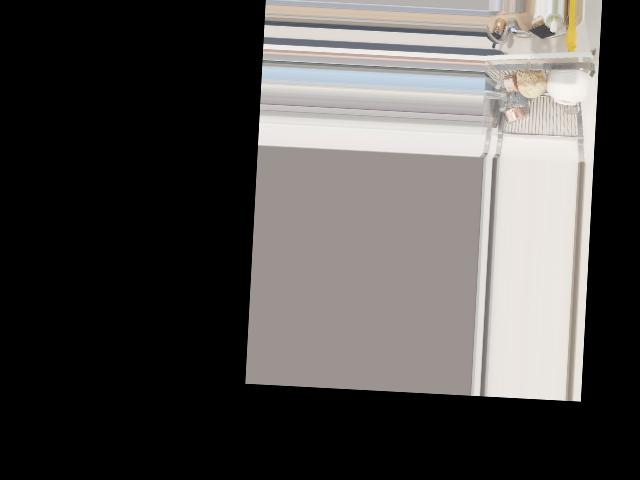onion: (517, 66, 546, 101)
